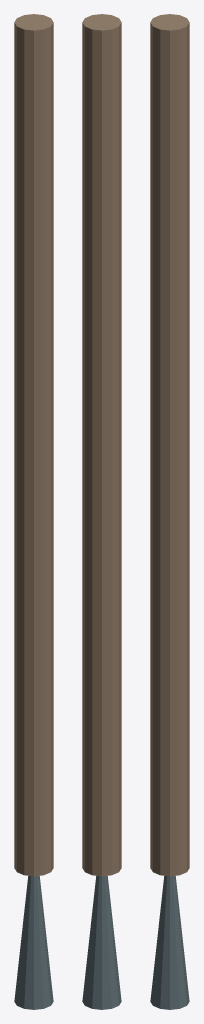
The model's file is PR-BRUSH.glb.
3 renders of one model, left to right at view 1: azimuth 90°, elevation 25°; view 2: azimuth 150°, elevation 25°; view 3: azimuth 270°, elevation 25°, orthographic.
Visible parts, largest first — view 1: shaft, tip; view 2: shaft, tip; view 3: shaft, tip.
Part boxes in pixels (x1=…): shaft: x1=14, y1=14, x2=53, y2=876; tip: x1=14, y1=876, x2=53, y2=1009; shaft: x1=82, y1=14, x2=121, y2=876; tip: x1=82, y1=876, x2=121, y2=1009; shaft: x1=150, y1=14, x2=189, y2=876; tip: x1=150, y1=876, x2=189, y2=1009.
Size of the model in its own units: 0.008 by 0.22 by 0.008.
